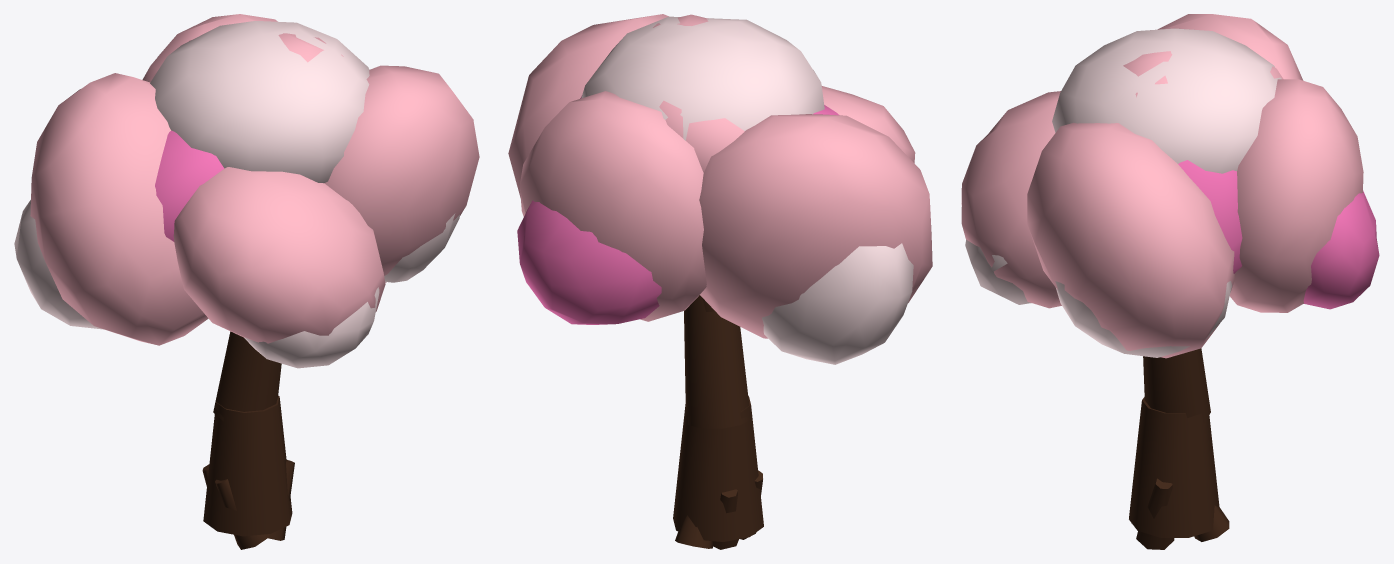
File: OriginalSakuraTree.glb
3 views of the same model, side by side, from view 1: azimuth 30°, elevation 25°; view 2: azimuth 150°, elevation 25°; view 3: azimuth 270°, elevation 25° (orthographic). The views are drawn at different scales.
Visible parts, largest first — view 1: SakuraCluster_6, SakuraCluster_9, SakuraCluster_0, SakuraCluster_3, object 5, object 6, SakuraCluster_10, SakuraCluster_8, SakuraCluster_7, SakuraCluster_4, SakuraCluster_11, object 2 (+1 smaller); view 2: SakuraCluster_6, SakuraCluster_11, SakuraCluster_0, SakuraCluster_7, SakuraCluster_12, object 5, SakuraCluster_3, object 6, SakuraCluster_9, SakuraCluster_1, object 3, object 4; view 3: SakuraCluster_3, SakuraCluster_0, SakuraCluster_11, SakuraCluster_9, object 5, SakuraCluster_12, object 6, SakuraCluster_6, SakuraCluster_5, SakuraCluster_4, SakuraCluster_10, object 1 (+2 smaller).
Boxes of the visible parts, box(x1,y1,x2,y2) form: SakuraCluster_6: box(30, 73, 208, 345); SakuraCluster_9: box(173, 167, 385, 343); SakuraCluster_0: box(150, 21, 369, 183); SakuraCluster_3: box(324, 65, 479, 282); object 5: box(203, 396, 292, 536); object 6: box(213, 331, 281, 421); SakuraCluster_10: box(244, 287, 379, 368); SakuraCluster_8: box(155, 130, 224, 241); SakuraCluster_7: box(14, 200, 103, 329); SakuraCluster_4: box(384, 213, 459, 282); SakuraCluster_11: box(142, 14, 277, 81); object 2: box(215, 479, 269, 549); SakuraCluster_6: box(699, 114, 932, 338); SakuraCluster_11: box(519, 91, 706, 321); SakuraCluster_0: box(581, 16, 824, 140); SakuraCluster_7: box(762, 243, 913, 364); SakuraCluster_12: box(517, 200, 661, 324); object 5: box(673, 396, 763, 541); SakuraCluster_3: box(508, 14, 668, 197); object 6: box(684, 295, 750, 428); SakuraCluster_9: box(821, 86, 915, 163); SakuraCluster_1: box(659, 100, 744, 172); object 3: box(675, 515, 713, 548); object 4: box(712, 489, 738, 549); SakuraCluster_3: box(1027, 122, 1234, 358); SakuraCluster_0: box(1052, 28, 1281, 173); SakuraCluster_11: box(1229, 79, 1363, 312); SakuraCluster_9: box(961, 91, 1061, 308); object 5: box(1129, 397, 1219, 537); SakuraCluster_12: box(1303, 190, 1379, 309); object 6: box(1143, 348, 1210, 423); SakuraCluster_6: box(1157, 14, 1303, 80); SakuraCluster_5: box(1178, 160, 1242, 273); SakuraCluster_4: box(1055, 281, 1232, 357); SakuraCluster_10: box(965, 239, 1031, 304); object 1: box(1136, 478, 1174, 549).
Bounding box in the file's own units: 10.92 × 12.7 × 9.53.
